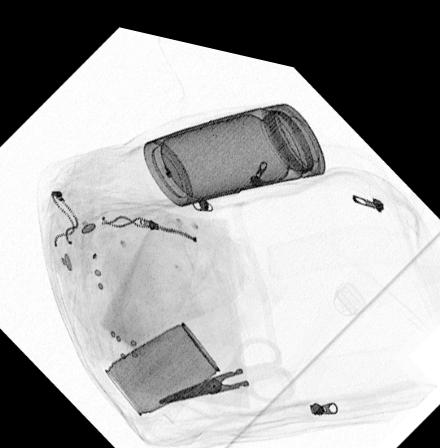Scissors: (156, 322, 296, 398)
